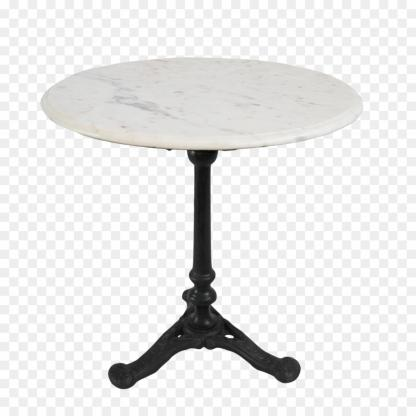table: (40, 55, 363, 398)
